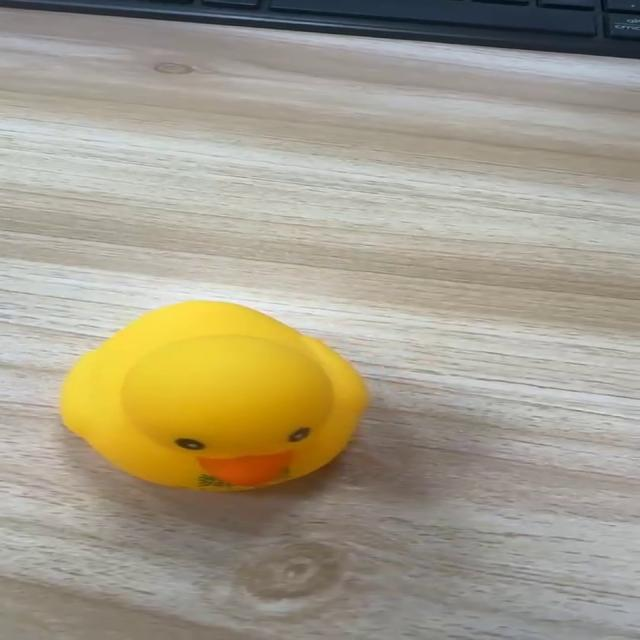yellow_duck: (57, 298, 370, 493)
